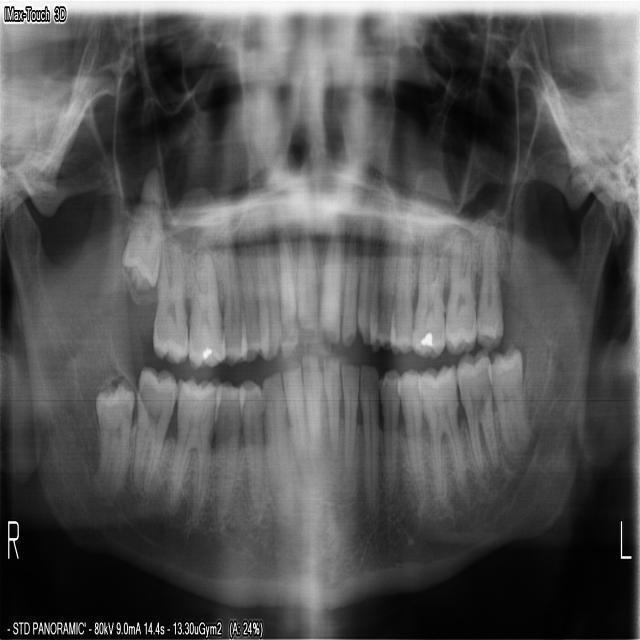LCD: (356, 361, 378, 513)
LCU: (355, 200, 377, 345)
LID: (320, 348, 342, 468), (339, 358, 358, 479)
LIU: (317, 207, 340, 346), (338, 213, 357, 348)
LMD: (415, 358, 465, 499), (484, 339, 535, 461), (453, 342, 497, 478)
LMU: (408, 213, 444, 358), (442, 219, 474, 355), (473, 223, 502, 353)
LPMD: (394, 364, 423, 509), (375, 363, 399, 505)
LPMU: (366, 213, 392, 353), (387, 215, 411, 354)
RCD: (259, 365, 293, 526)
RCU: (254, 230, 278, 360)
RID: (279, 359, 306, 489), (299, 347, 321, 475)
RIU: (293, 213, 316, 351), (276, 221, 298, 358)
RMD: (165, 372, 217, 520), (129, 362, 175, 494), (90, 375, 134, 499)
RMU: (118, 164, 163, 296), (185, 227, 225, 369), (150, 228, 187, 365)
RPMD: (212, 375, 243, 526), (236, 374, 263, 526)
RPMU: (218, 235, 245, 368), (235, 234, 259, 362)
